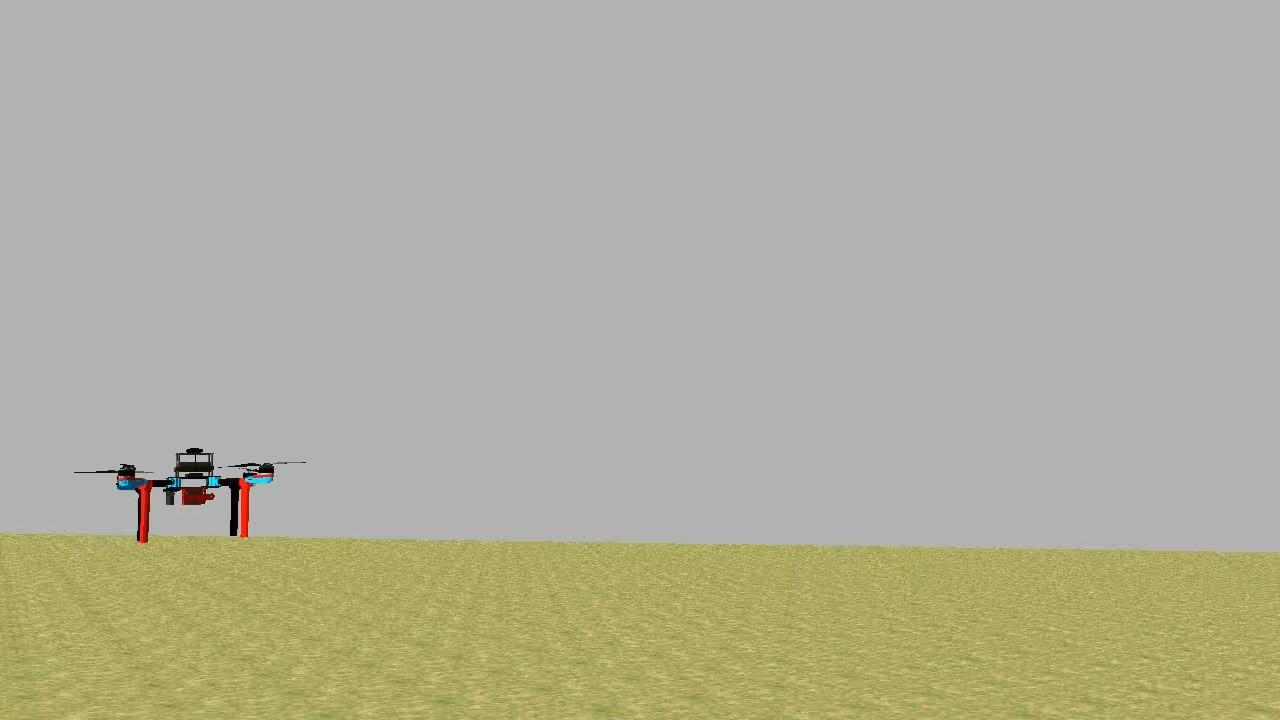UAV: (109, 438, 280, 548)
